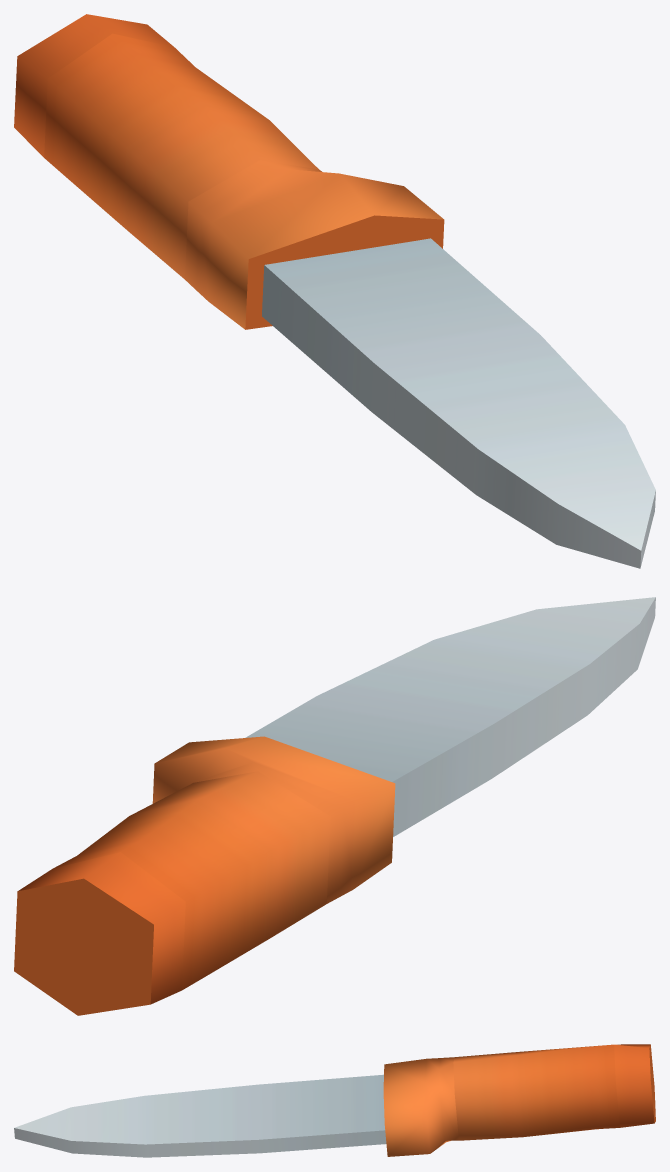
Rendered from Knife_002.gltf.
3 renders of one model, top to bottom at view 1: azimuth 30°, elevation 25°; view 2: azimuth 150°, elevation 25°; view 3: azimuth 270°, elevation 25°, orthographic. The views are drawn at different scales.
Visible parts, largest first — view 1: Knife_002_x; view 2: Knife_002_x; view 3: Knife_002_x.
Boxes of the visible parts, <box> form: Knife_002_x: <box>14,14,655,568</box>; Knife_002_x: <box>14,597,655,1015</box>; Knife_002_x: <box>14,1044,655,1157</box>.
Bounding box in the file's own units: 0.4272 × 0.3372 × 2.09.
1 material, 1 textured.
